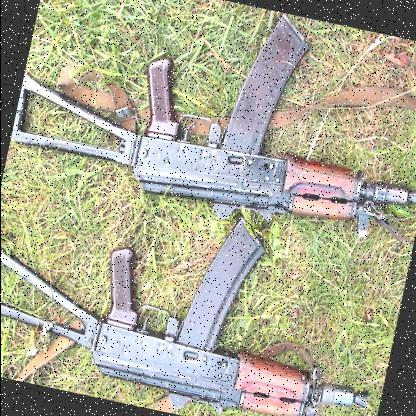rifle: (6, 0, 416, 251), (0, 169, 400, 416)
